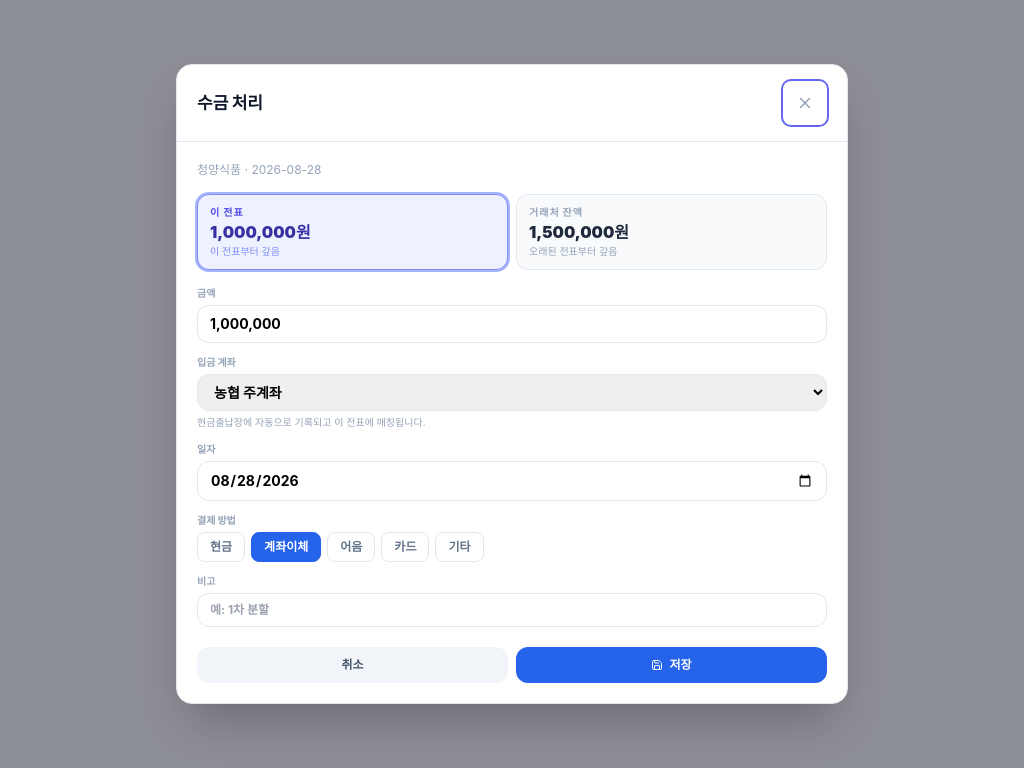
Test: 수금·지불 — 전표에서 연다 › 잔액을 넘기면 바로 안 나가고 **선수금 경고**부터 뜬다
This screenshot has width=1024, height=768.
Replace the text in the 1st field with "2000000": (512, 324) [197, 305, 827, 343]
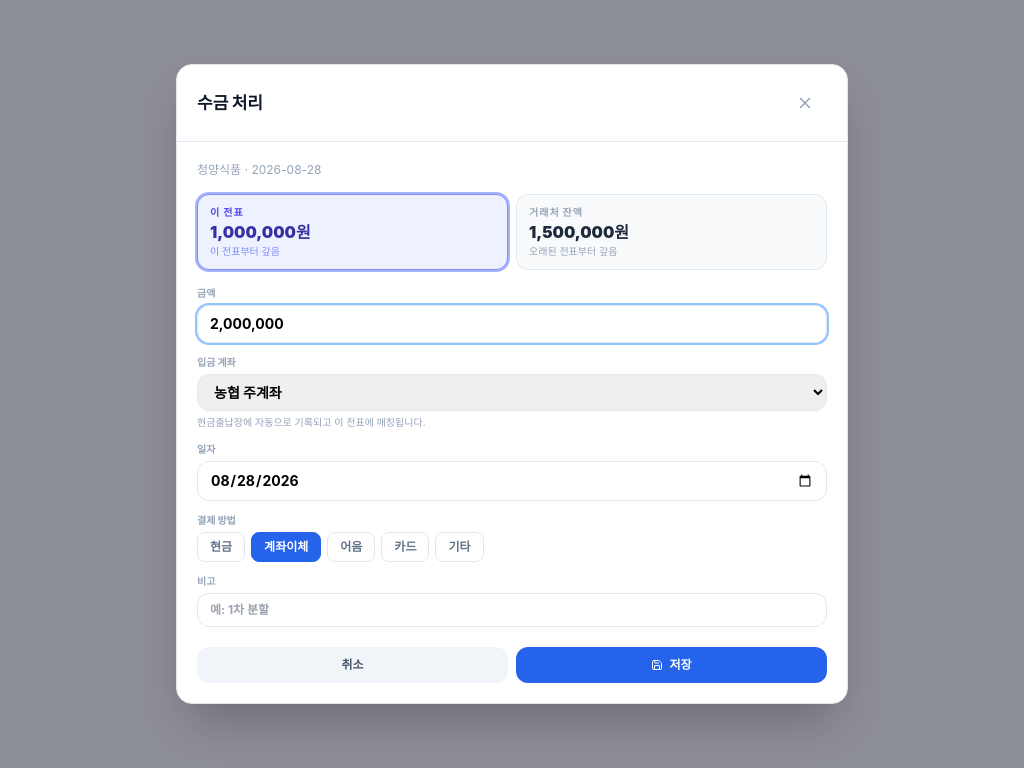
Click the button "저장": (672, 665) [516, 647, 827, 683]
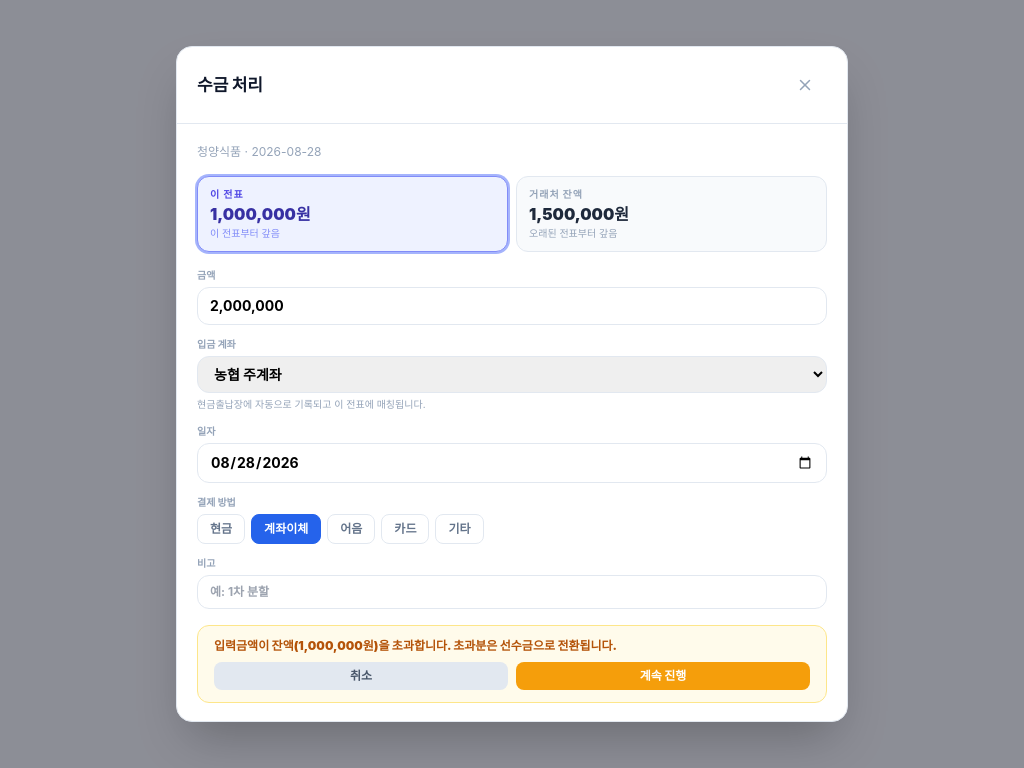
Check: the text "입력금액이 잔액(1,000,000원)을 초과합니다. 초과분은 선수금으로 전환됩니다." is shown, box [214, 638, 617, 653]
